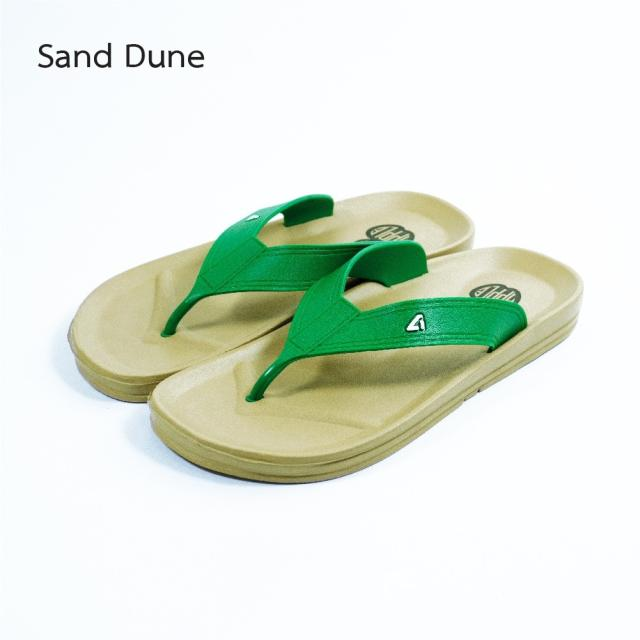Sandals: (51, 138, 590, 514)
